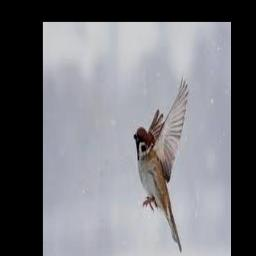Sparrow: (134, 76, 190, 252)
